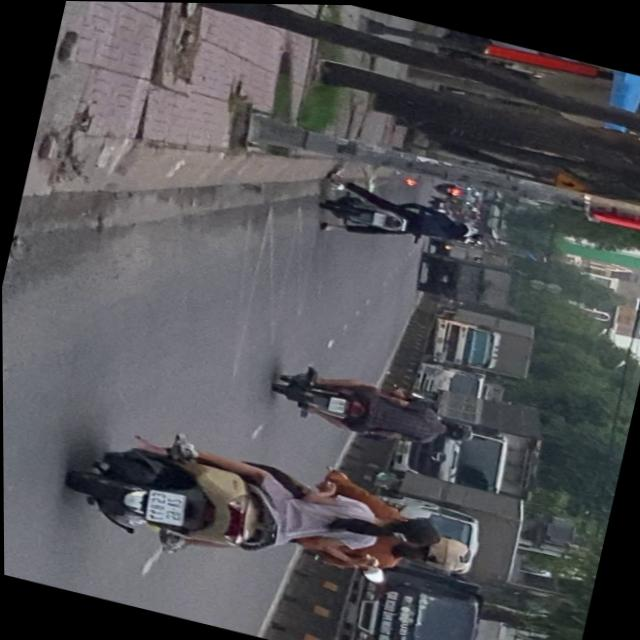helmet: (418, 528, 473, 574), (442, 420, 475, 444)
licenseplate: (54, 407, 478, 616), (264, 357, 481, 460)
motorcyclist: (382, 510, 444, 552)
nohelmet: (145, 487, 189, 527), (327, 394, 348, 413)
